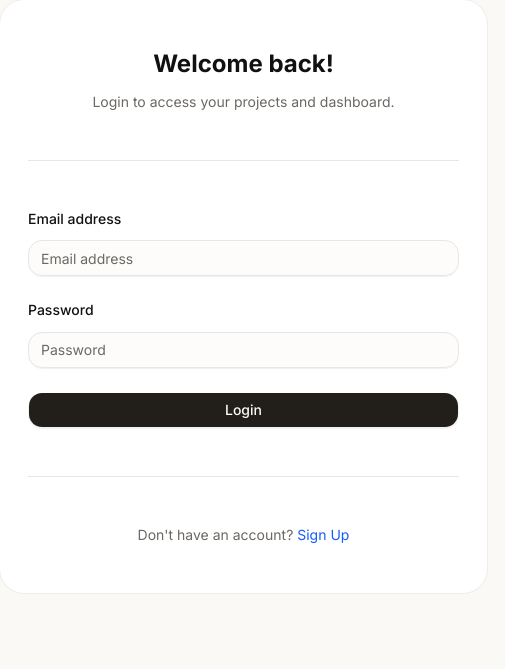
Test: SignInCard component › displays mutation error on submission failure
Type "test@example.com" into the field with placeholder "Email address" at (244, 258), box [28, 240, 459, 276]
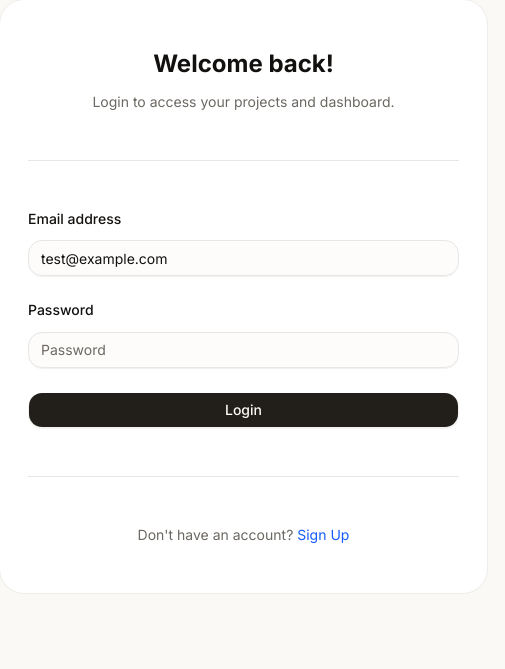
Type "password123" into the password field with placeholder "Password" at (244, 350), box [28, 332, 459, 368]
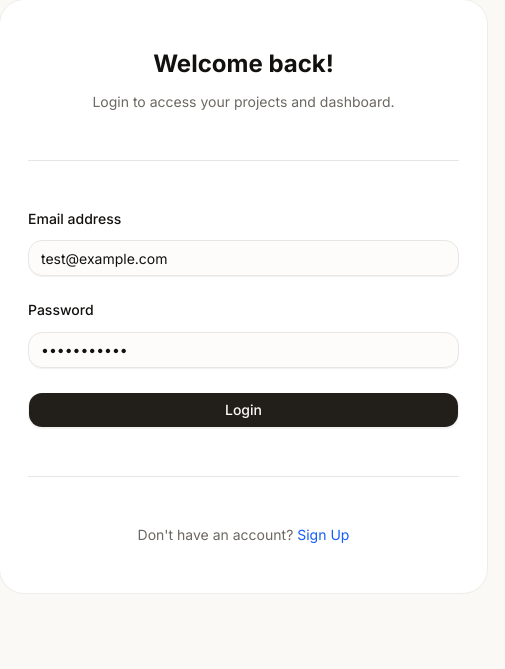
Click the button "Login" at (244, 410), box [28, 392, 459, 428]
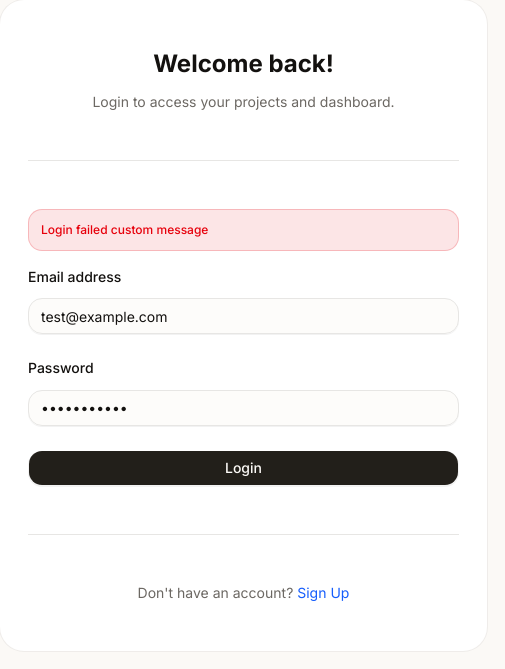
Expected: the text "Login failed custom message" is shown, [28, 209, 459, 251]
